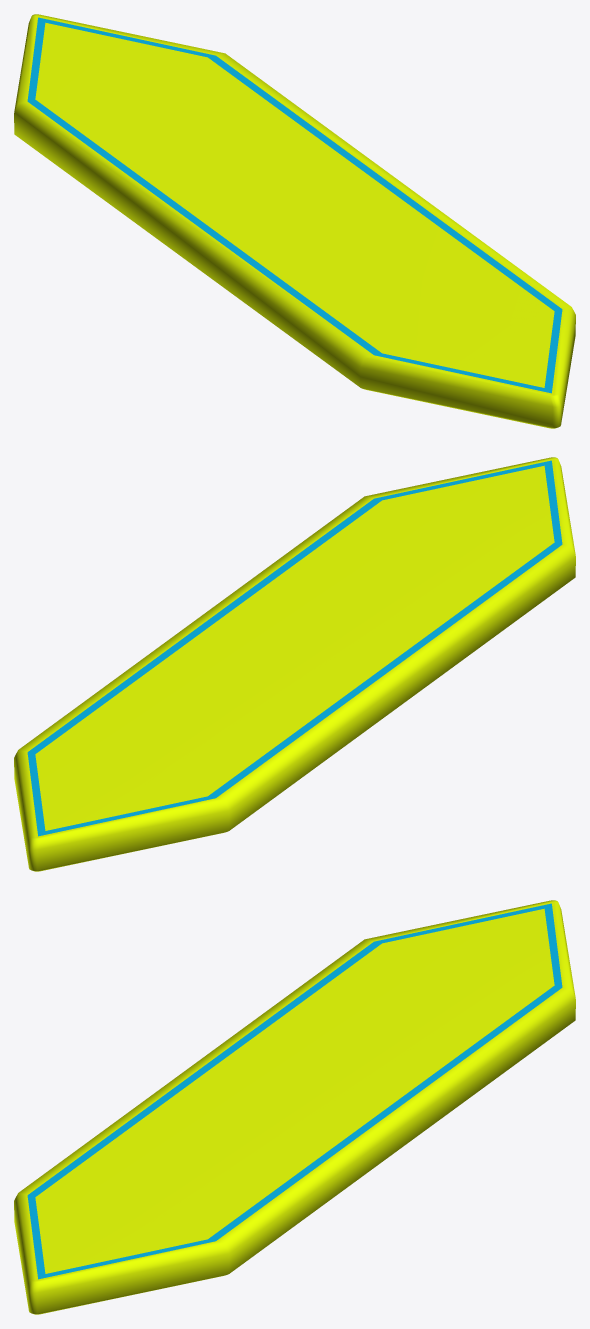
Rendered from Re_Blocker_Board_Long.fbx.
3 views of the same model, one above another, from view 1: azimuth 30°, elevation 25°; view 2: azimuth 150°, elevation 25°; view 3: azimuth 330°, elevation 25° (orthographic).
Parts seen in each view (by area): view 1: Re_Blocker_Board_Long; view 2: Re_Blocker_Board_Long; view 3: Re_Blocker_Board_Long.
Boxes of the visible parts, x1=… form: Re_Blocker_Board_Long: x1=14, y1=14, x2=575, y2=428; Re_Blocker_Board_Long: x1=14, y1=457, x2=575, y2=871; Re_Blocker_Board_Long: x1=14, y1=900, x2=575, y2=1314.
Size of the model in its own units: 2.28 by 0.3402 by 9.68.
